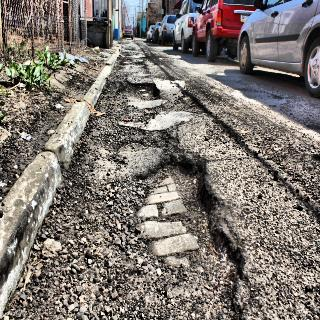pothole: (115, 149, 243, 315), (121, 78, 163, 102)
